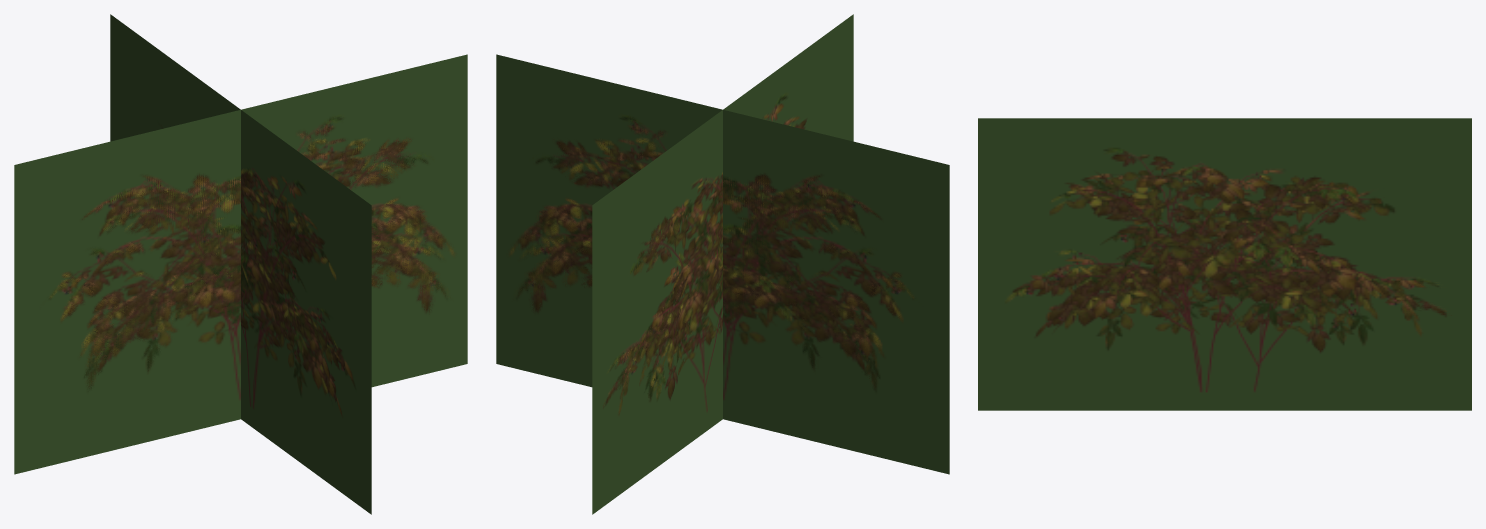
Rendered from BlBerry2_LOD4.fbx.
3 renders of one model, left to right at view 1: azimuth 30°, elevation 25°; view 2: azimuth 150°, elevation 25°; view 3: azimuth 270°, elevation 25°, orthographic. The views are drawn at different scales.
Parts seen in each view (by area): view 1: polySurface1046; view 2: polySurface1046; view 3: polySurface1046.
Part boxes in pixels (x1,y1,x2,y2): polySurface1046: [14, 14, 467, 514]; polySurface1046: [496, 14, 949, 514]; polySurface1046: [978, 118, 1471, 410].
Size of the model in its own units: 365 by 239 by 365.
